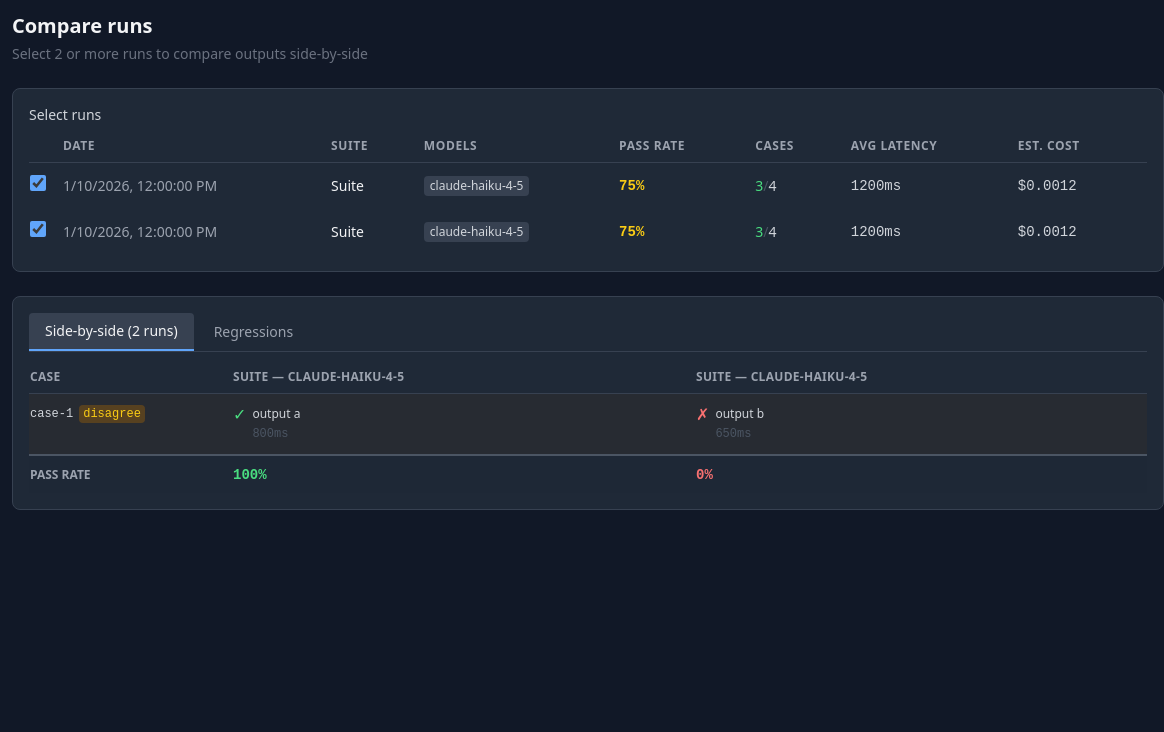
Compare page › shows the no-regressions message when the diff is clean
Click the button "Regressions" at coordinates (253, 332), box [198,313,309,351]
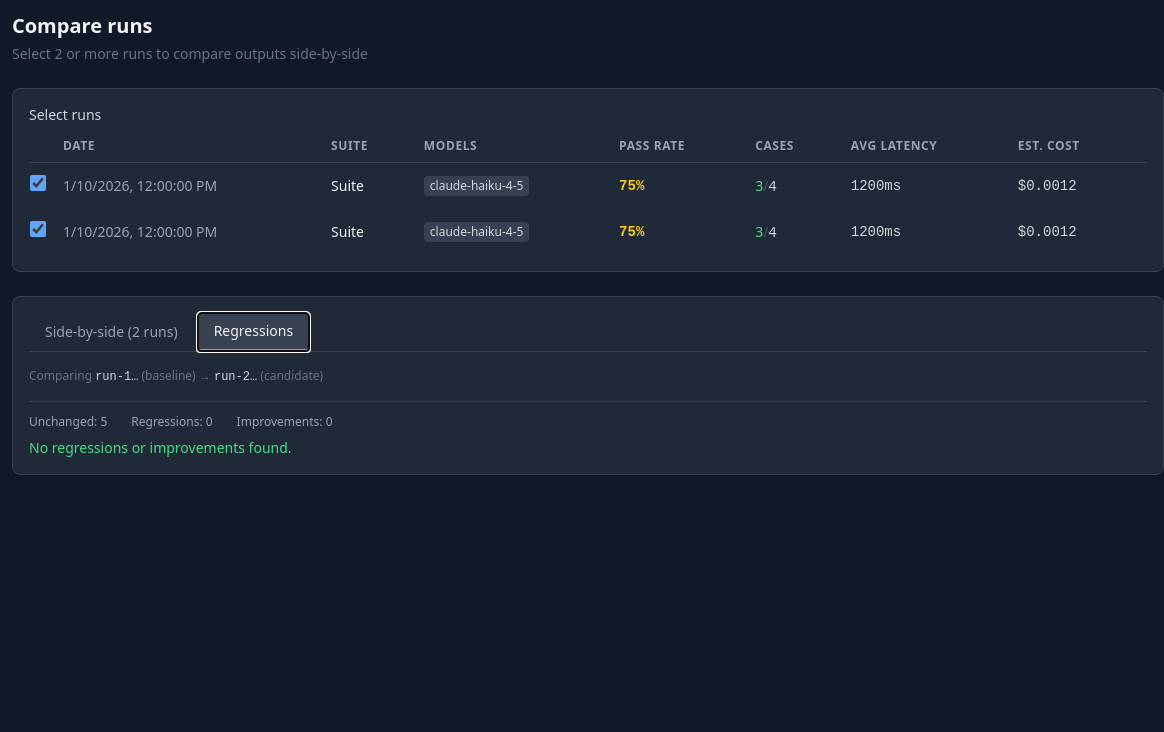
Now the text "No regressions or improvements found." is shown, box [29,438,292,457]
